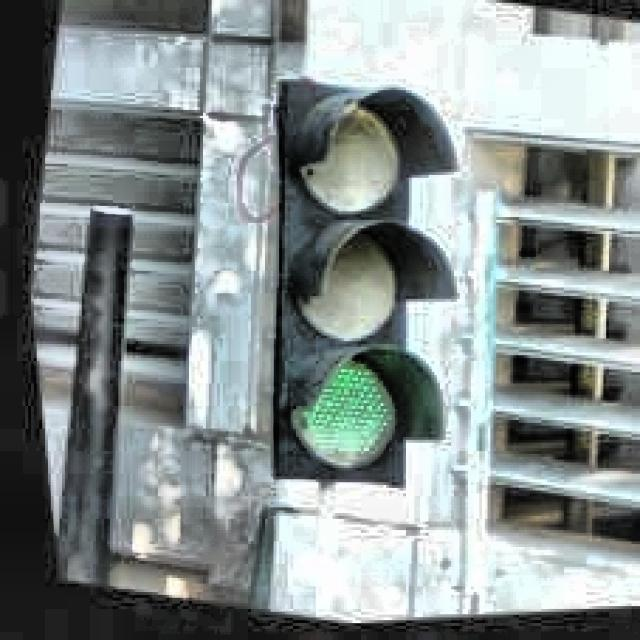green: (193, 66, 506, 509)
